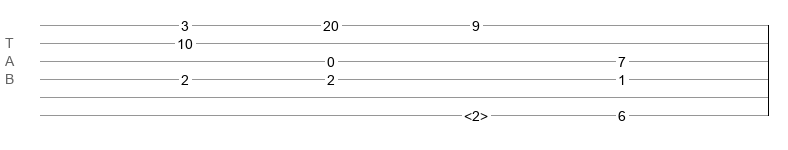0: (327, 54, 335, 64)
1: (618, 72, 626, 82)
10: (177, 36, 193, 46)
2: (181, 72, 189, 82), (327, 72, 335, 82)
20: (323, 18, 339, 28)
3: (181, 18, 189, 28)
6: (618, 108, 626, 118)
7: (618, 54, 626, 64)
9: (472, 18, 480, 28)
harmonic: (464, 108, 488, 118)
